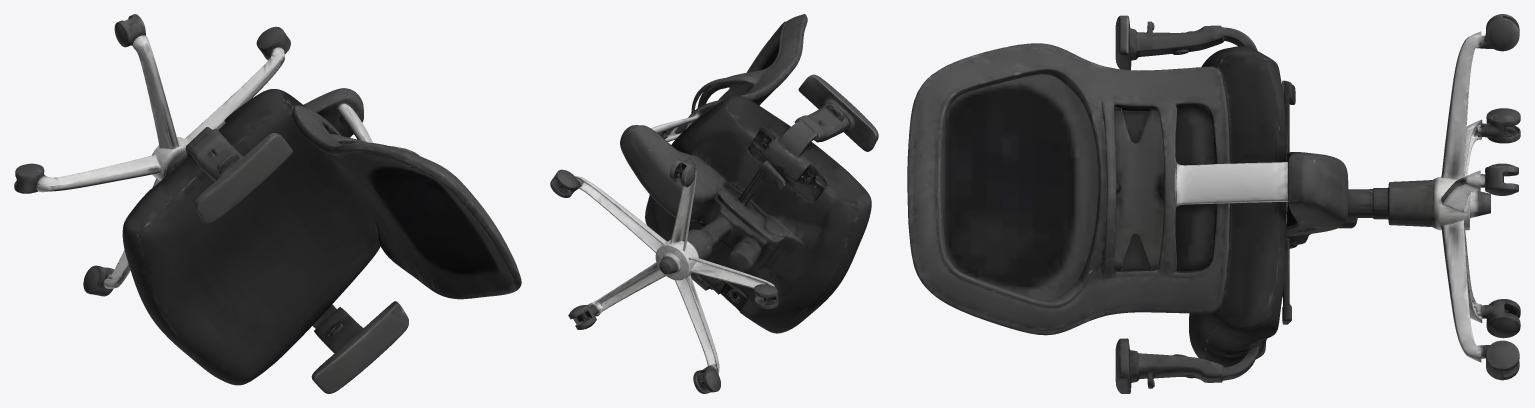
3 renders of one model, left to right at view 1: azimuth 30°, elevation 25°; view 2: azimuth 150°, elevation 25°; view 3: azimuth 270°, elevation 25°, orthographic. The views are drawn at different scales.
Visible parts, largest first — view 1: Mesh_0.010; view 2: Mesh_0.010; view 3: Mesh_0.010.
Boxes of the visible parts, x1,y1,x2,y2 form: Mesh_0.010: (14, 14, 521, 393); Mesh_0.010: (550, 14, 878, 393); Mesh_0.010: (907, 14, 1520, 393).
Size of the model in its own units: 0.0212 by 0.0209 by 0.0323.
Materials: 1 (1 with a texture image).
